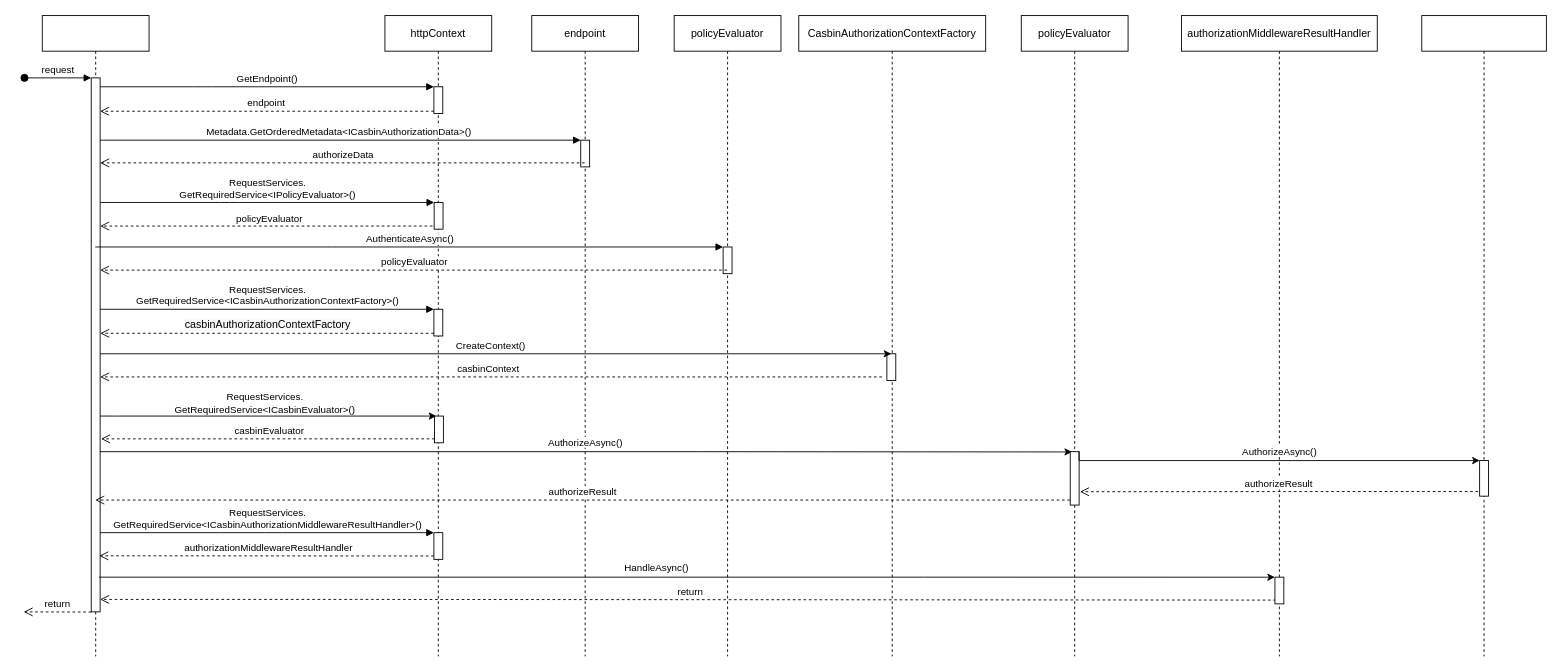
Some shapes in this 1562 by 672 pixel diagram are drawn without their labels. Each missing label, with the box of its shape:
CasbinAuthorization Middleware: (41, 15, 149, 656)
IAuthorizationService: (1421, 15, 1546, 656)
